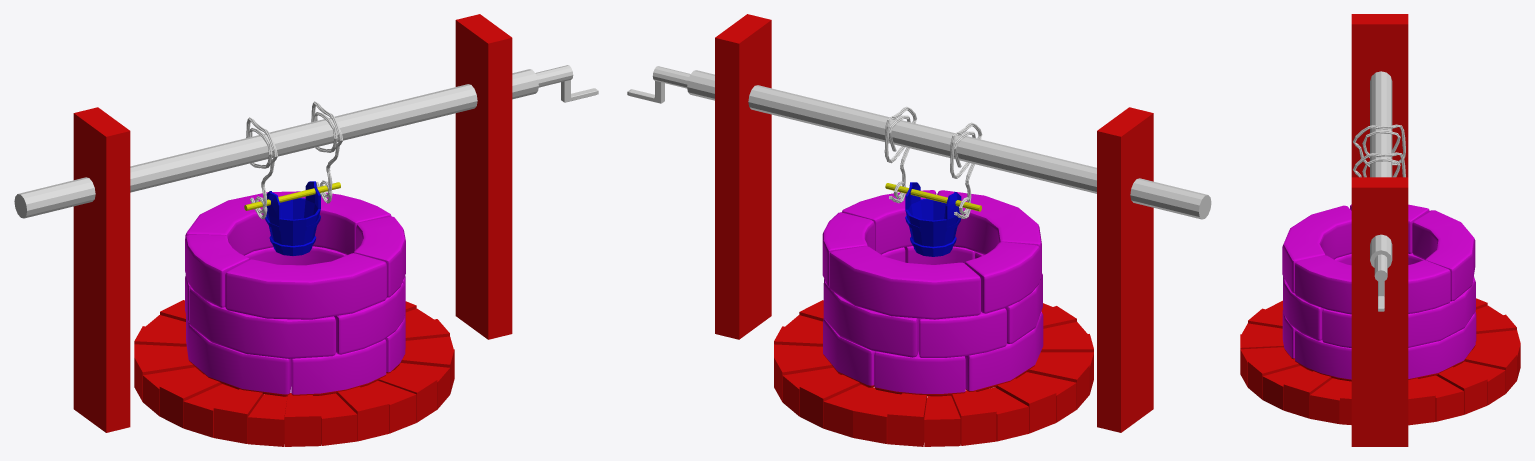
File: Waterwell.fbx
3 renders of one model, left to right at view 1: azimuth 30°, elevation 25°; view 2: azimuth 150°, elevation 25°; view 3: azimuth 270°, elevation 25°, orthographic. The views are drawn at different scales.
Parts seen in each view (by area): view 1: pCube287, pCylinder138, pCylinder141, pCylinder147, pCylinder148; view 2: pCube287, pCylinder138, pCylinder141, pCylinder148, pCylinder147; view 3: pCube287, pCylinder138, pCylinder147, pCylinder148.
Part boxes in pixels (x1,y1,x2,y2): pCube287: [73, 14, 512, 446]; pCylinder138: [14, 65, 598, 218]; pCylinder141: [244, 181, 340, 255]; pCylinder147: [246, 117, 277, 219]; pCylinder148: [311, 101, 343, 203]; pCube287: [715, 14, 1153, 446]; pCylinder138: [627, 66, 1211, 219]; pCylinder141: [885, 182, 981, 256]; pCylinder148: [884, 106, 916, 203]; pCylinder147: [950, 122, 982, 218]; pCube287: [1240, 14, 1520, 446]; pCylinder138: [1370, 71, 1392, 311]; pCylinder147: [1353, 124, 1405, 167]; pCylinder148: [1353, 152, 1405, 177].
Bounding box in the file's own units: 442 × 223 × 213.
